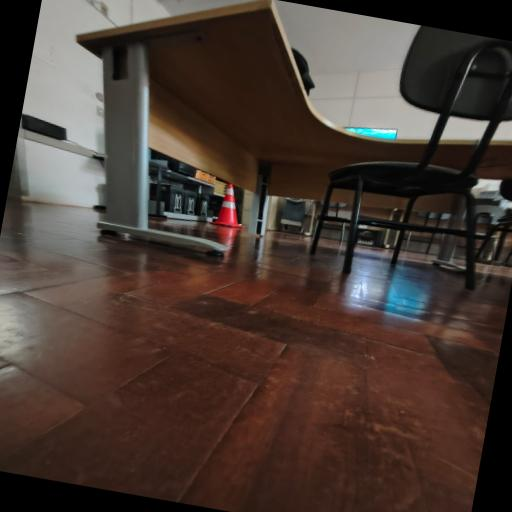cone: (212, 178, 249, 230)
